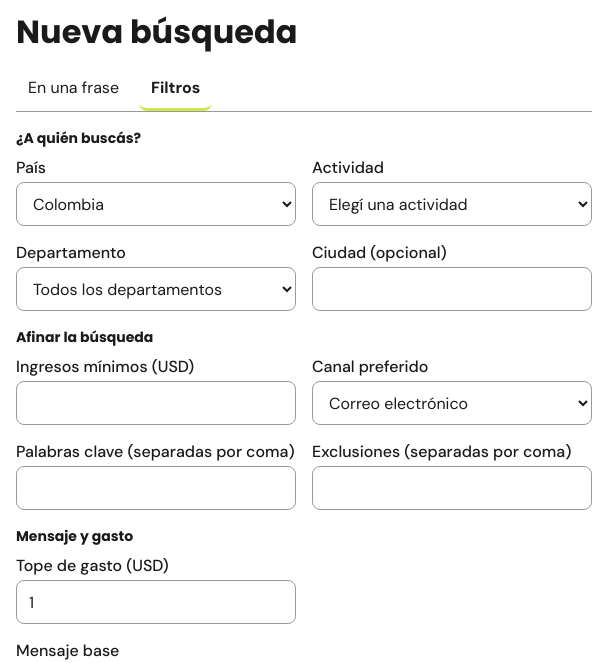
Test: si_la_ia_pregunta_aparece_como_mensaje_y_el_segundo_envio_lleva_el_historial
Click the tab "En una frase": (74, 89) top-left (16, 67), bottom-right (131, 111)
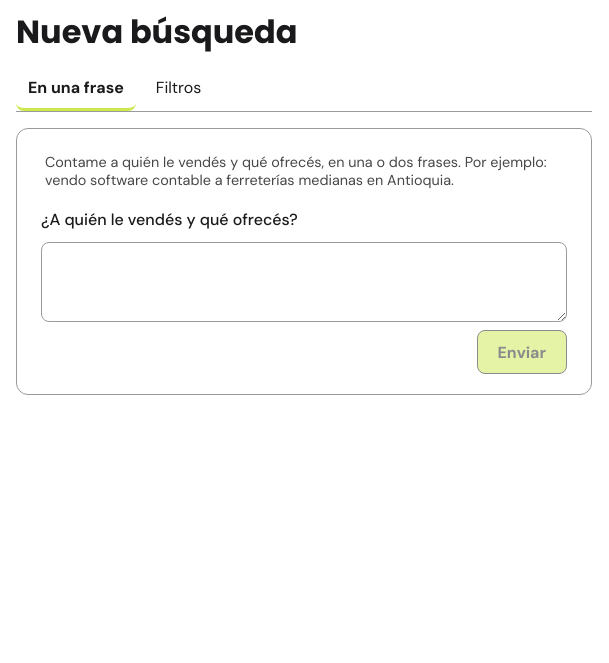
Expected: the text box labelled "¿A quién le vendés y qué ofrecés?" is shown
In the text box labelled "¿A quién le vendés y qué ofrecés?": (304, 282) top-left (41, 242), bottom-right (567, 322), type "vendo software contable"
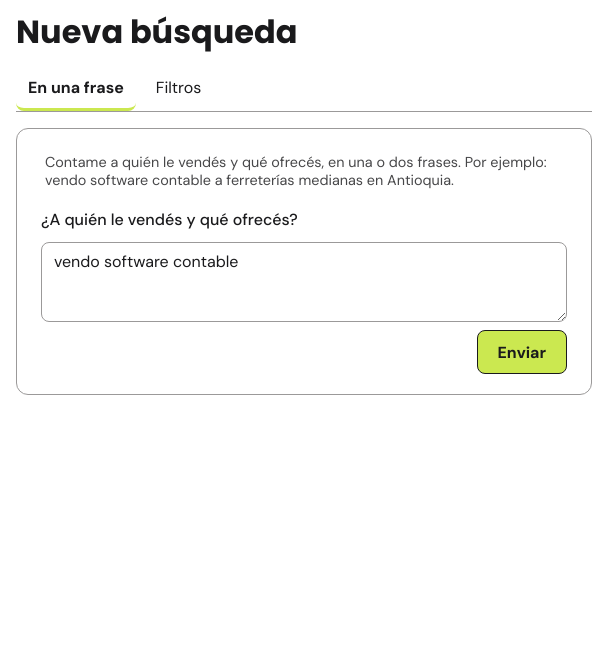
Expected: the button "Enviar" is shown
Click the button "Enviar": (522, 352) top-left (476, 330), bottom-right (567, 374)
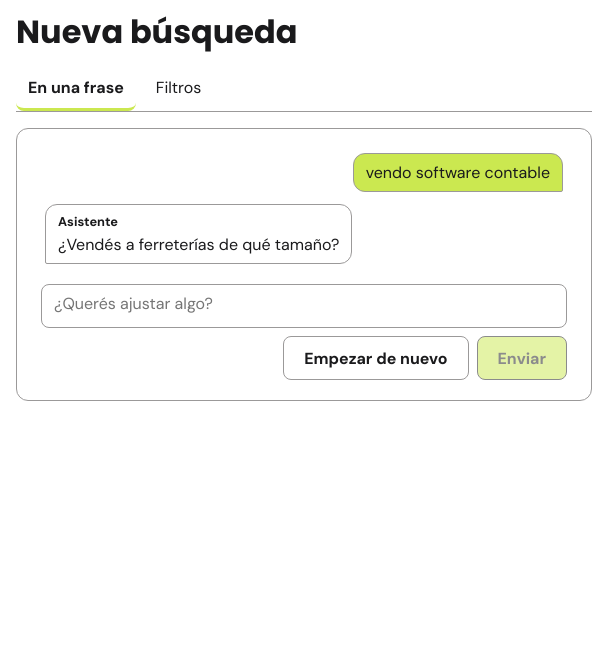
Expected: the text "vendo software contable" is shown, top-left (366, 162), bottom-right (550, 183)
Expected: the text "¿Vendés a ferreterías de qué tamaño?" is shown, top-left (58, 234), bottom-right (339, 255)
Expected: the text "Asistente" is shown, top-left (58, 213), bottom-right (118, 230)
In the text box named "¿A quién le vendés y qué ofrecés?": (304, 306) top-left (41, 284), bottom-right (567, 328), type "ferreterías medianas"
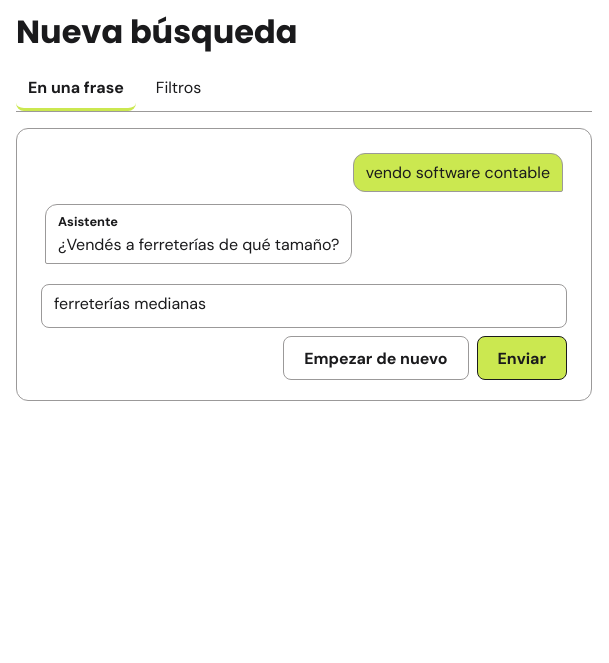
Expected: the button "Enviar" is shown
Click the button "Enviar": (522, 358) top-left (476, 336), bottom-right (567, 380)
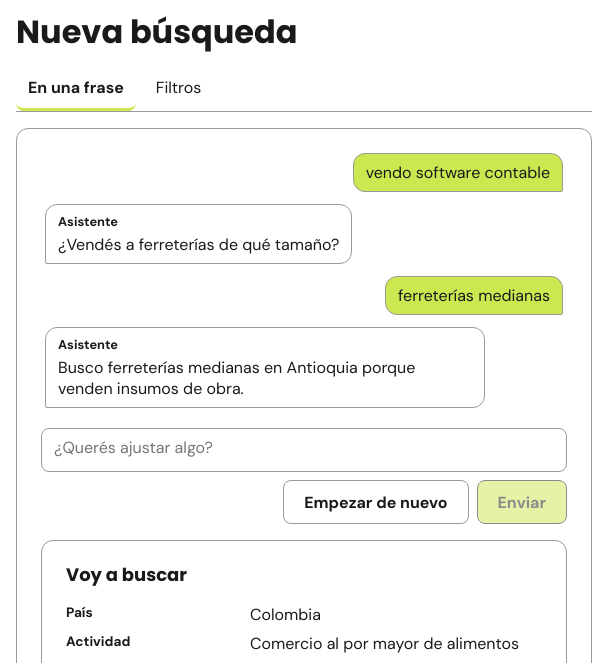
Expected: the text "Busco ferreterías medianas en Antioquia porque venden insumos de obra." is shown, top-left (58, 357), bottom-right (472, 399)
